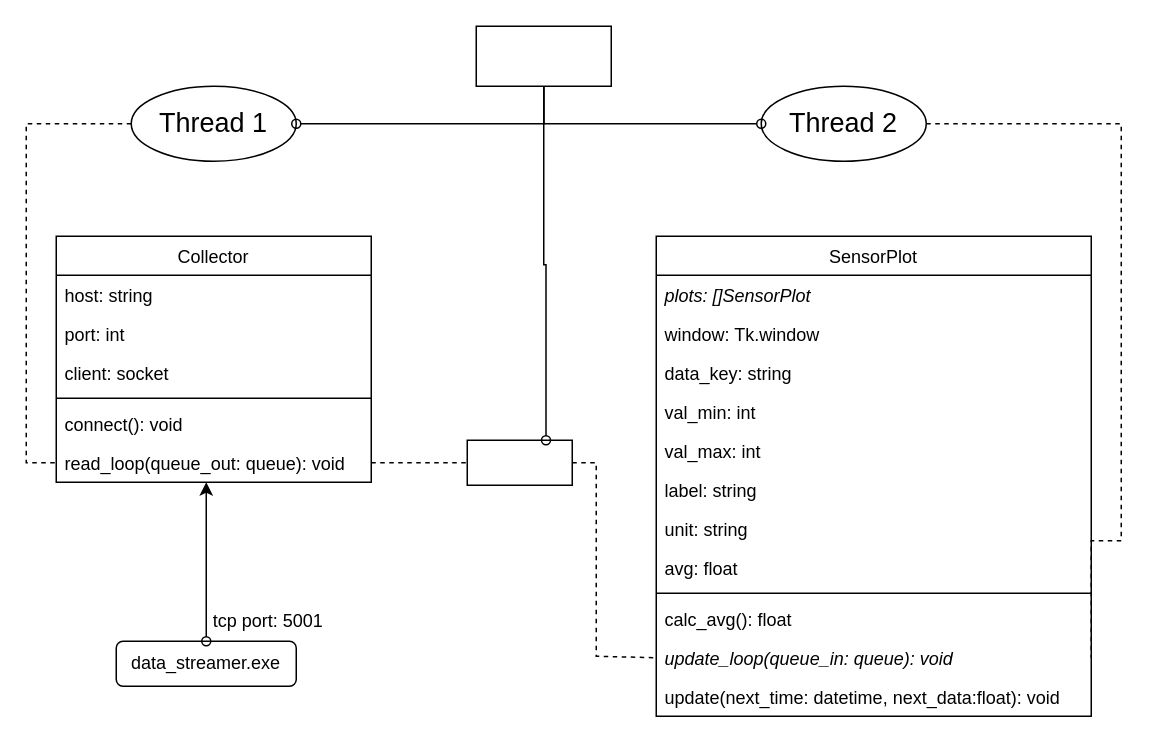
This 1149x747 diagram has some shape labels left out. The box of each missing label's shape, as (x1, y1, x2, y2) in pixels:
main(): (475, 25, 611, 86)
queue: (466, 439, 572, 485)
